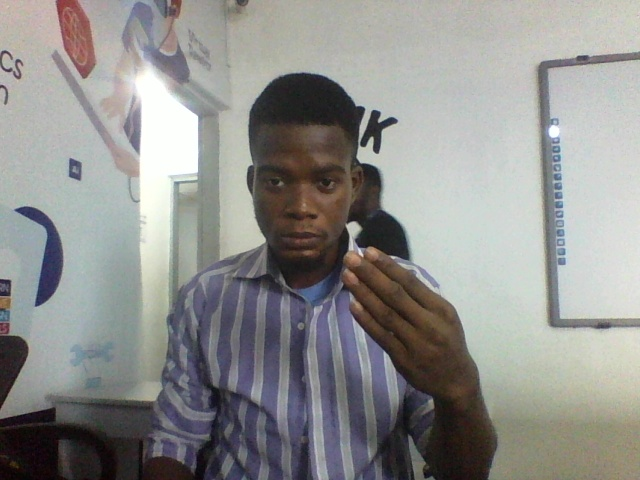thanks: (312, 249, 530, 425)
